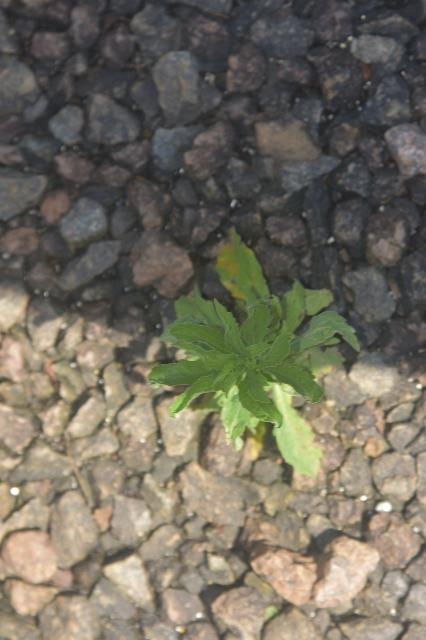MalezaMontesDelPlata: (140, 234, 363, 483)
